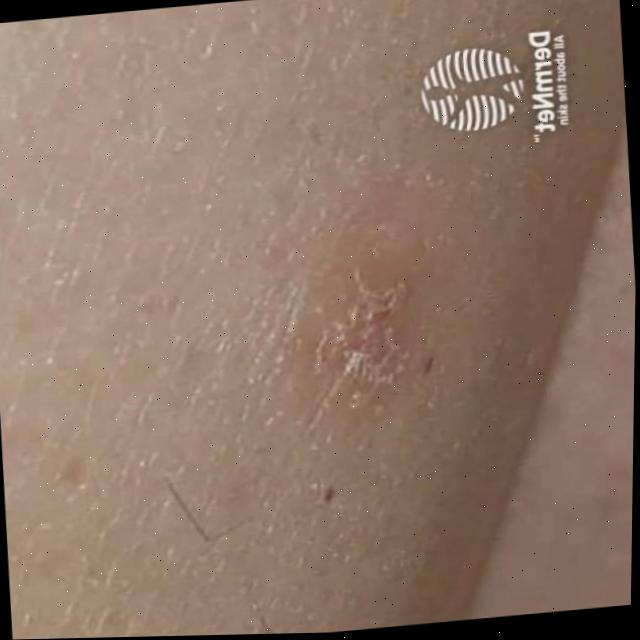Eczema: (301, 257, 423, 412)
